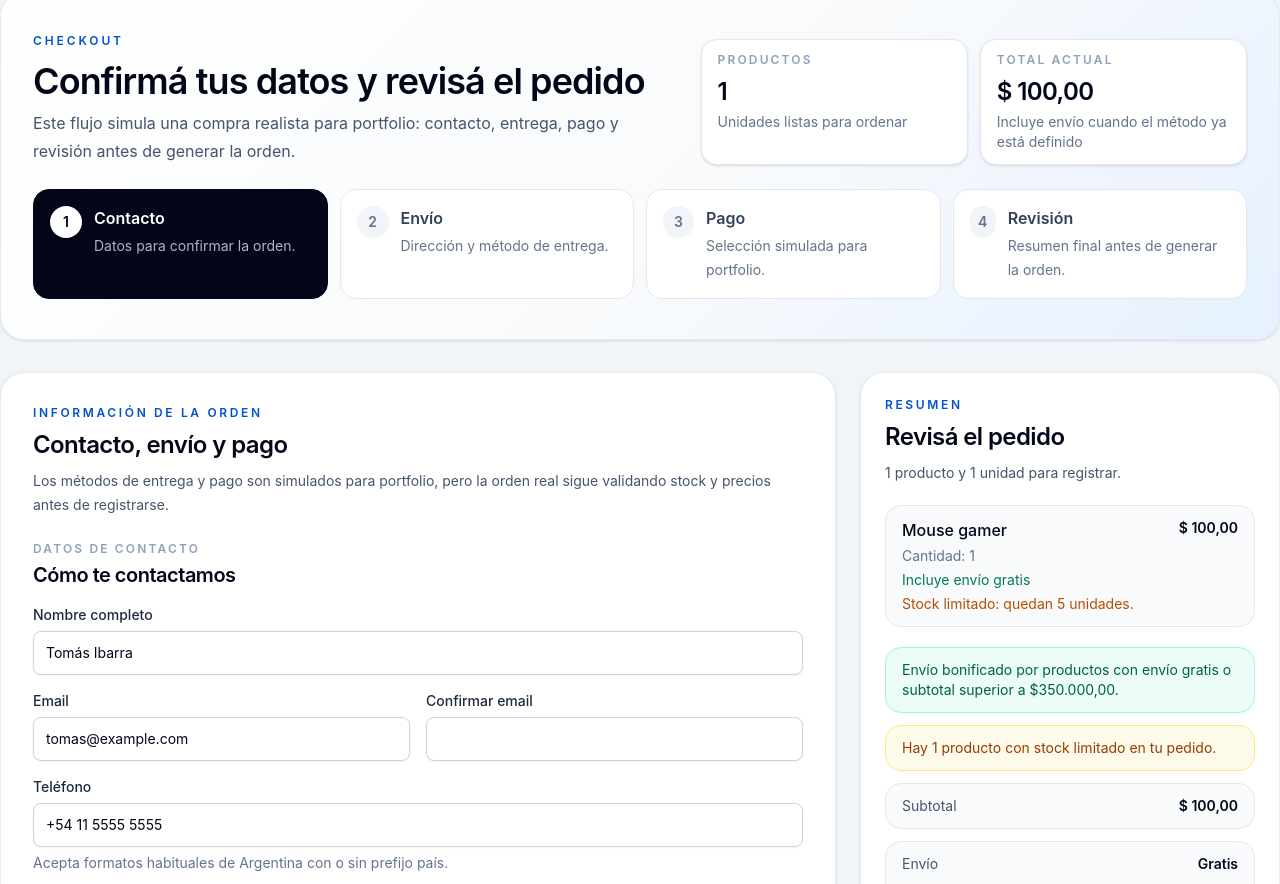
Test: CheckoutPageContent › limpia sessionStorage tras checkout exitoso
The width and height of the screenshot is (1280, 884).
Expected: the field labelled "Nombre completo" holds "Tomás Ibarra", [33,631,803,675]
In the field labelled "Confirmar email": (614, 739) [426,717,803,761], type "tomas@example.com"
(page scrolled)
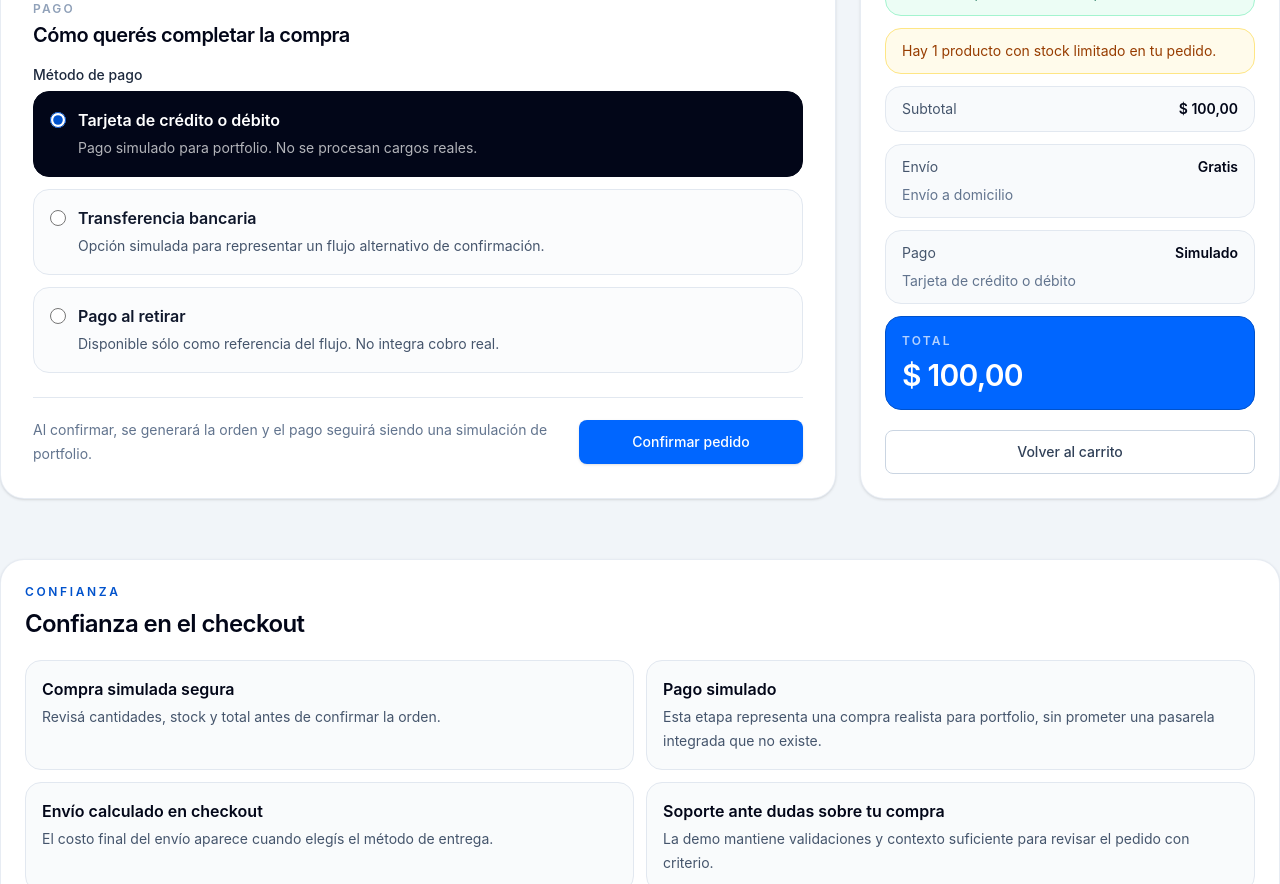
Click the button "Confirmar pedido": (691, 442) [579,420,803,464]
(page scrolled)
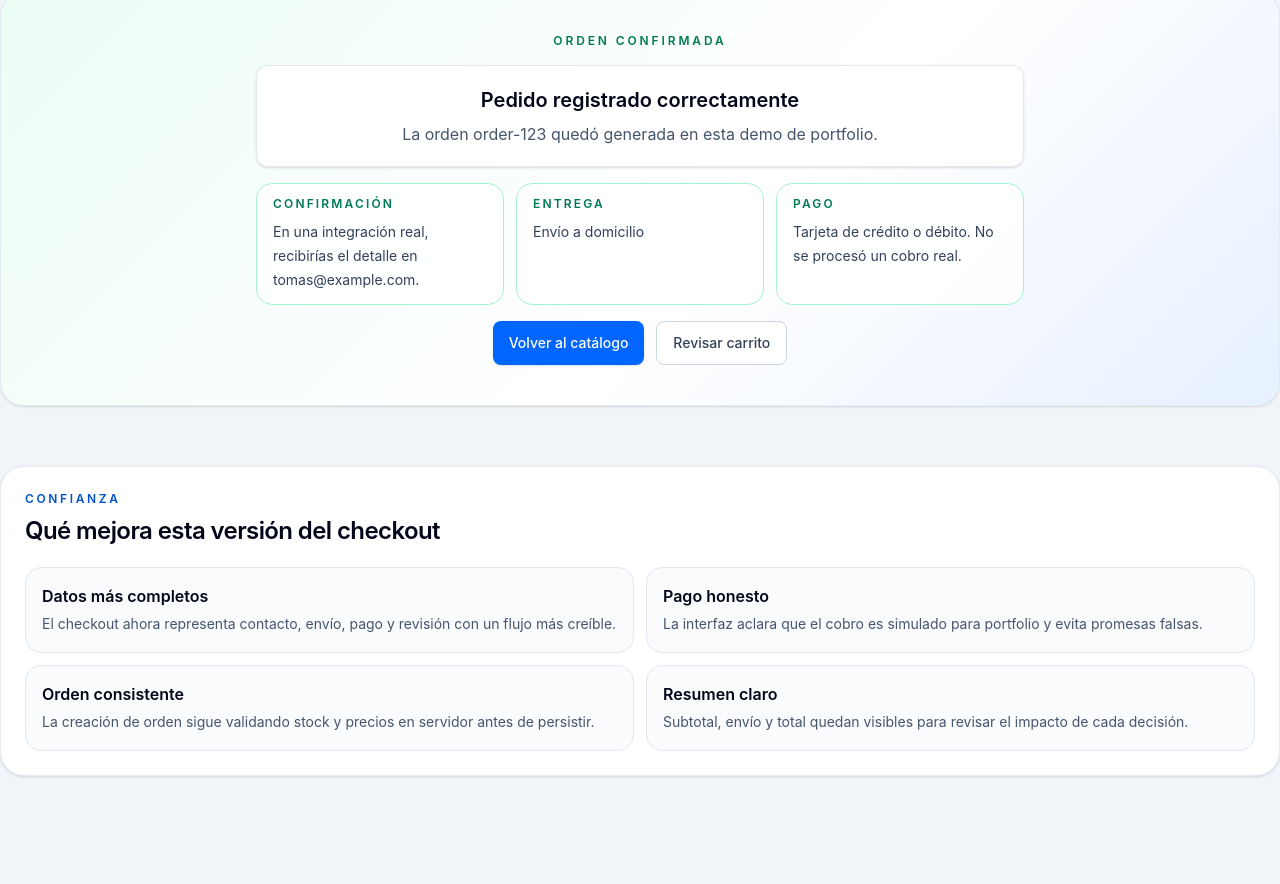
Expected: the heading "Pedido registrado correctamente" is shown, [481,88,799,112]
